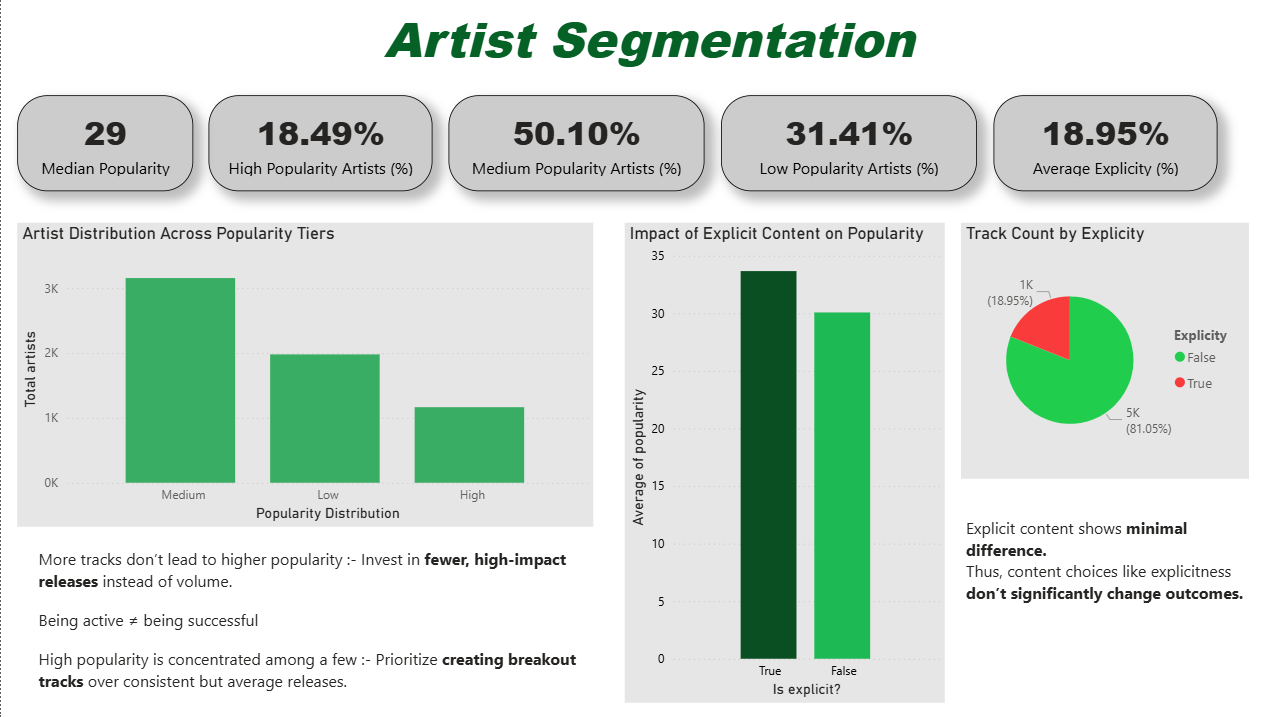

This screenshot's page, from the dashboard's own definition file:
{"tool":"powerbi","page":{"name":"Optimization","canvas":[1280,720],"ordinal":3},"visuals":[{"type":"textbox","box":[16,0,1264,80],"z":0},{"type":"card","fields":{"Values":["Sum(spotify_project.% High Popularity TABLE)"]},"box":[208,96,224,96],"z":1000},{"type":"card","fields":{"Values":["spotify_project.% Medium Popularity TABLE"]},"box":[448,96,256,96],"z":2000},{"type":"card","fields":{"Values":["spotify_project.% Low Popularity TABLE"]},"box":[720,96,256,96],"z":3000},{"type":"columnChart","title":"Artist Distribution Across Popularity Tiers","fields":{"Category":["spotify_project.Popularity Bucket"],"Y":["CountNonNull(spotify_project.artists)"]},"box":[16,224,576,304],"z":4000},{"type":"textbox","box":[32,544,576,160],"z":5000},{"type":"clusteredColumnChart","title":"Impact of Explicit Content on Popularity","fields":{"Y":["Avg(spotify_project.popularity)"],"Category":["spotify_project.explicit"]},"box":[624,224,320,480],"z":6000},{"type":"textbox","box":[960,512,288,112],"z":7000},{"type":"card","fields":{"Values":["Median(spotify_project.popularity)"]},"box":[16,96,176,96],"z":8000},{"type":"card","fields":{"Values":["Avg(spotify_project.explicit percent)"]},"box":[992,96,224,96],"z":9000},{"type":"pieChart","fields":{"Category":["spotify_project.explicit"],"Y":["spotify_project.Track Count"]},"box":[960,224,288,256],"z":10000}]}

Visuals, with their boxes in screenshot pixels (x1, y1, x2, y2), scaled from the page's 1280x720 canvas onto the 1281x717 screenshot:
textbox: <box>16,0,1280,80</box>
card - Sum(spotify_project.% High Popularity TABLE): <box>208,96,432,191</box>
card - spotify_project.% Medium Popularity TABLE: <box>448,96,705,191</box>
card - spotify_project.% Low Popularity TABLE: <box>721,96,977,191</box>
"Artist Distribution Across Popularity Tiers" columnChart: <box>16,223,592,526</box>
textbox: <box>32,542,608,701</box>
"Impact of Explicit Content on Popularity" clusteredColumnChart: <box>624,223,945,701</box>
textbox: <box>961,510,1249,621</box>
card - Median(spotify_project.popularity): <box>16,96,192,191</box>
card - Avg(spotify_project.explicit percent): <box>993,96,1217,191</box>
pieChart - spotify_project.explicit x spotify_project.Track Count: <box>961,223,1249,478</box>
